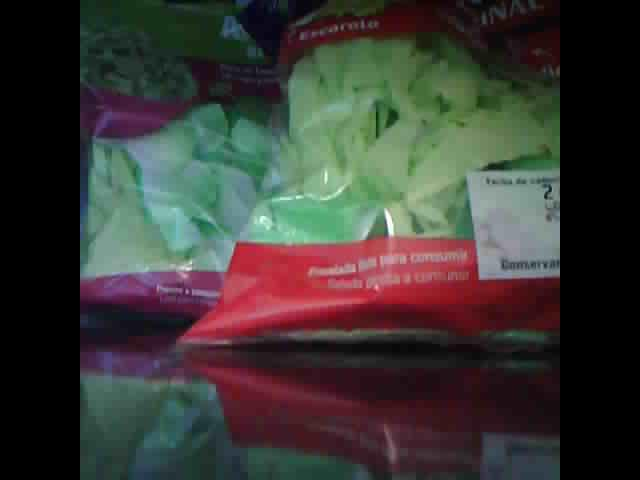florette: (203, 2, 557, 342), (80, 2, 275, 305)
